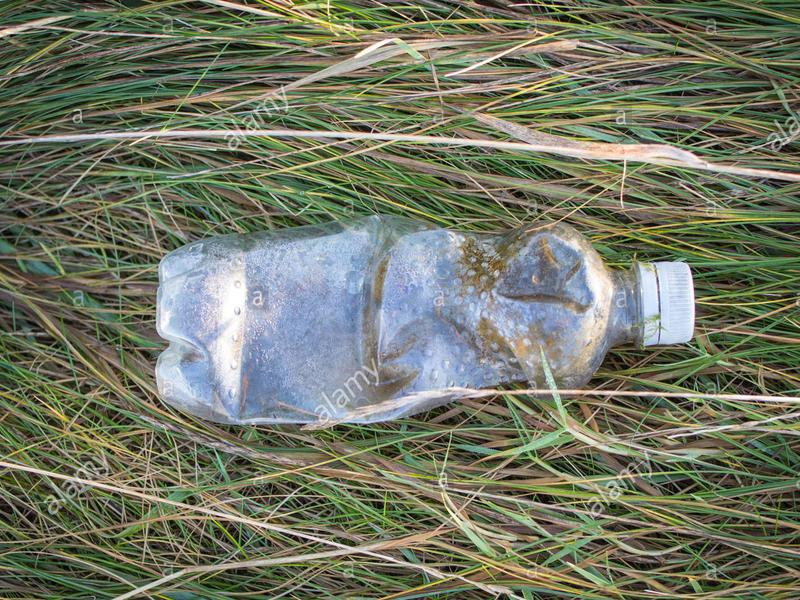bottle: (141, 216, 705, 437)
